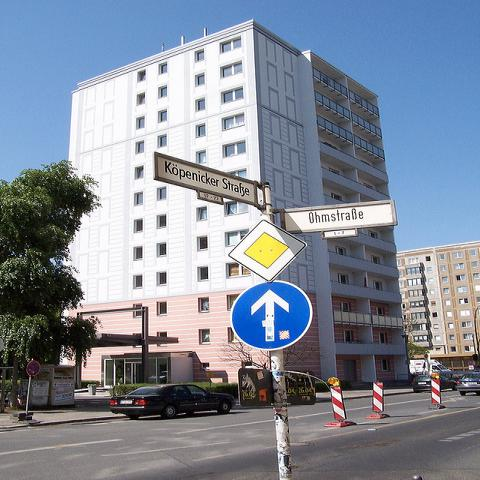car: (109, 384, 236, 420), (412, 375, 456, 392), (455, 372, 479, 397)
